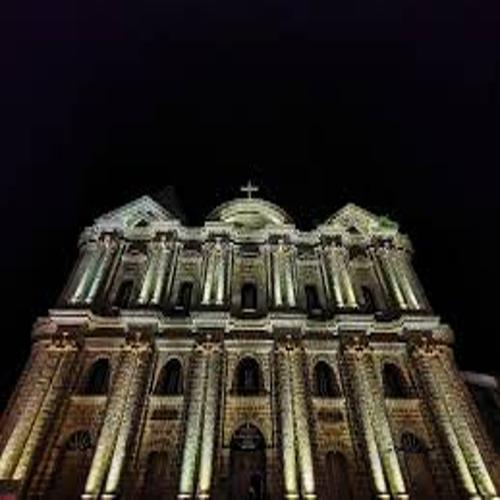Taal Basilica Church: (31, 176, 479, 496)
